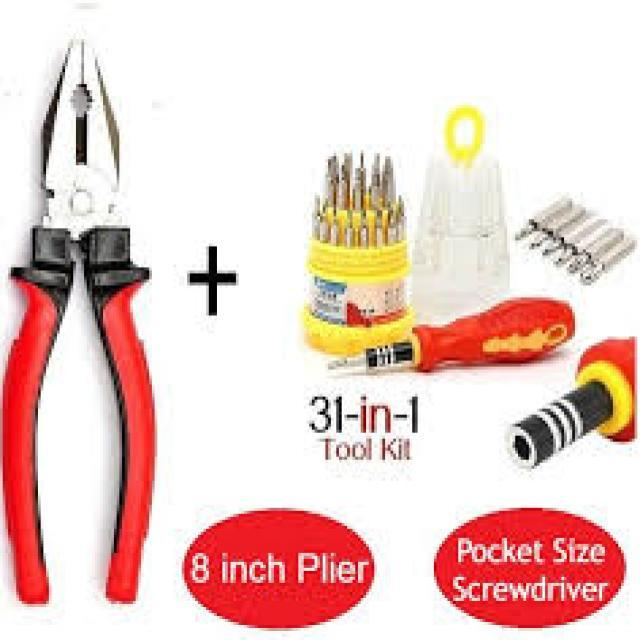pliers: (0, 24, 168, 614)
screwdriver: (318, 289, 596, 396)
